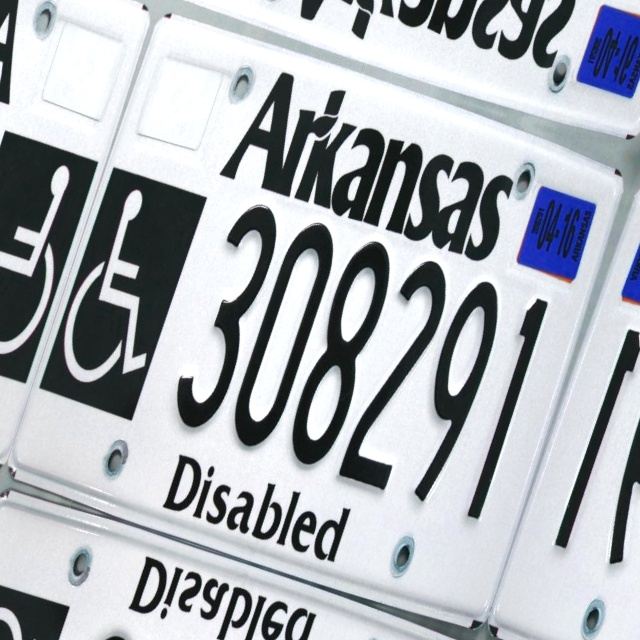ISA: (49, 182, 196, 401), (0, 146, 88, 365), (0, 596, 59, 640)
